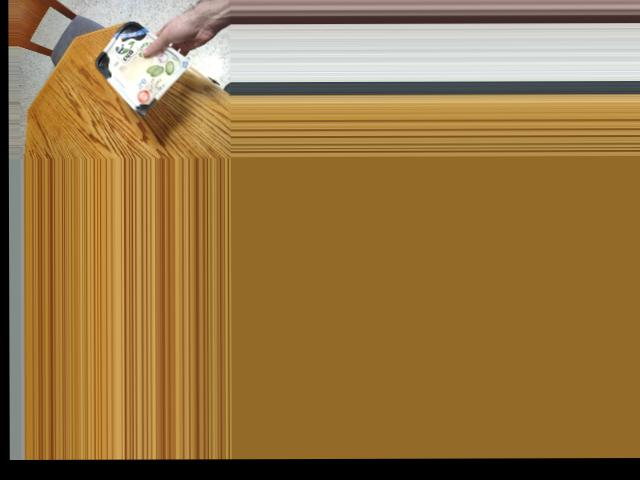cheese: (107, 26, 161, 106)
